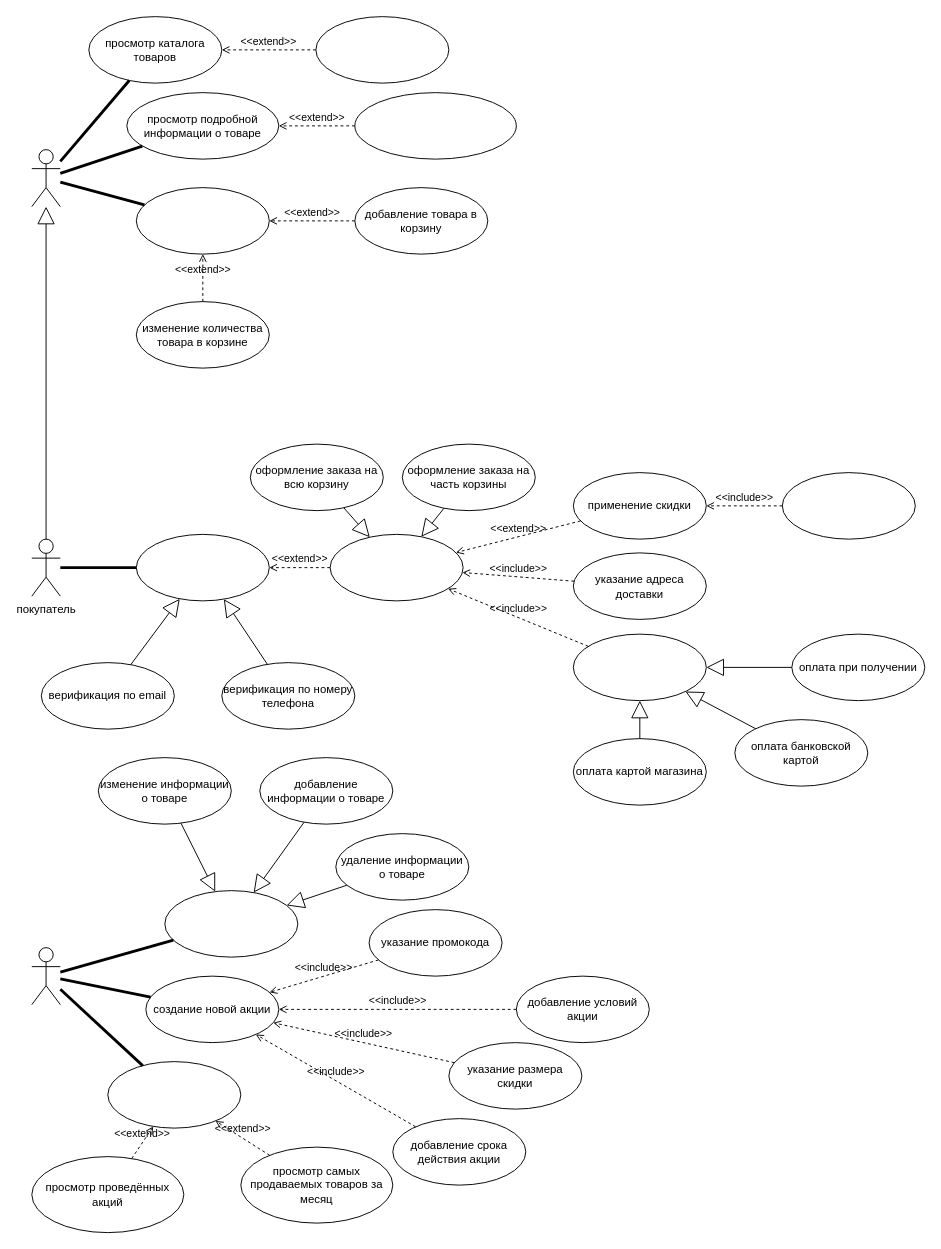
The diagram is 941 pixels wide and 1249 high, and some of its shapes have lost their labels. Each missing label, with the box of its shape:
авторизация: (135, 533, 269, 601)
ввод промокода: (781, 472, 915, 539)
менеджер: (31, 947, 60, 1005)
оформление заказа: (329, 533, 463, 601)
посетитель: (31, 149, 60, 207)
просмотр корзины: (135, 187, 269, 254)
просмотр отчётов: (107, 1061, 241, 1128)
просмотр списка отзывов: (354, 92, 516, 159)
редактирование информации о товаре: (164, 890, 298, 957)
указание способа оплаты: (572, 633, 706, 701)
фильтрация списка товаров по ключевым словам: (315, 16, 449, 83)
